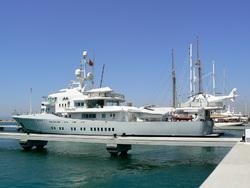yacht: (8, 48, 223, 135)
